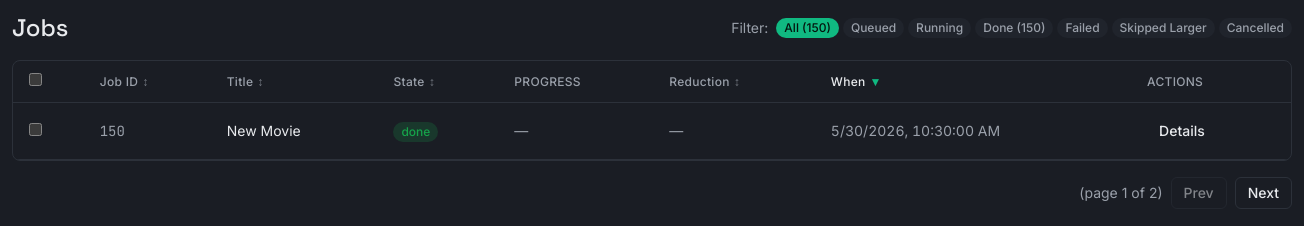
Test: paginates: shows page info and fetches the next page via offset
Check: the text "New Movie" is shown, box [211,102,377,160]
Check: the text "Old Show" is not shown
Click the button "Next". click: coordinates (1263, 193)
box: [1235,177,1292,209]
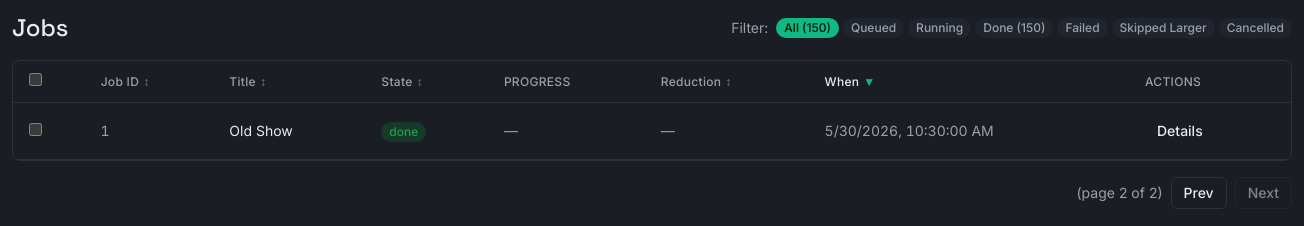
Check: the text "Old Show" is shown, box [213,102,365,160]
Check: the text "(page 2 of 2)" is shown, box [1076,183,1162,203]
